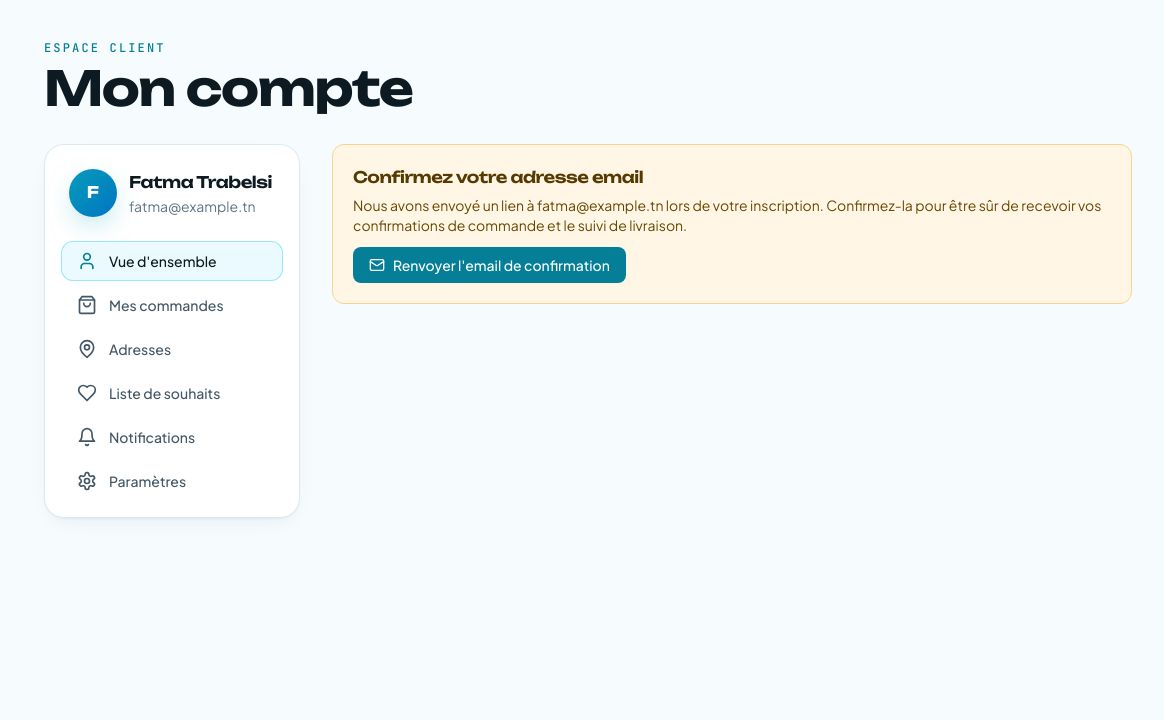
Test: customer account page › puts the chosen tab in the address
The width and height of the screenshot is (1164, 720).
Step 1. Click the button "Paramètres" → [172, 481], box [61,461,283,501]
(page scrolled)
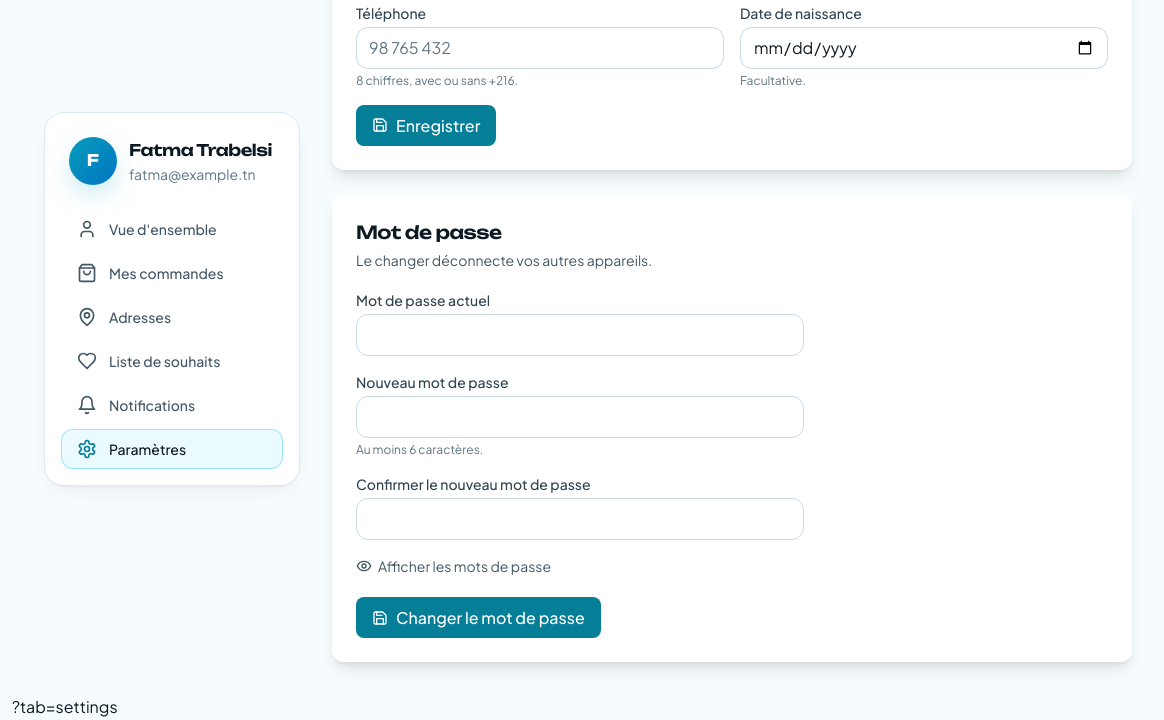
Now the text with test id "location" reads "?tab=settings", box [12,696,118,717]
